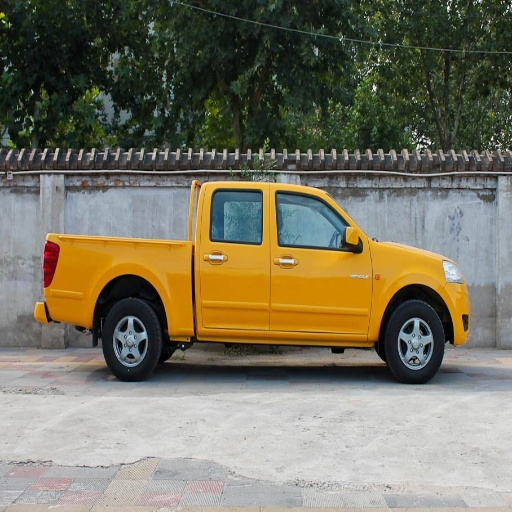back_right_door: (198, 185, 273, 330)
front_right_door: (270, 186, 372, 333)
trunk: (49, 237, 189, 334)
